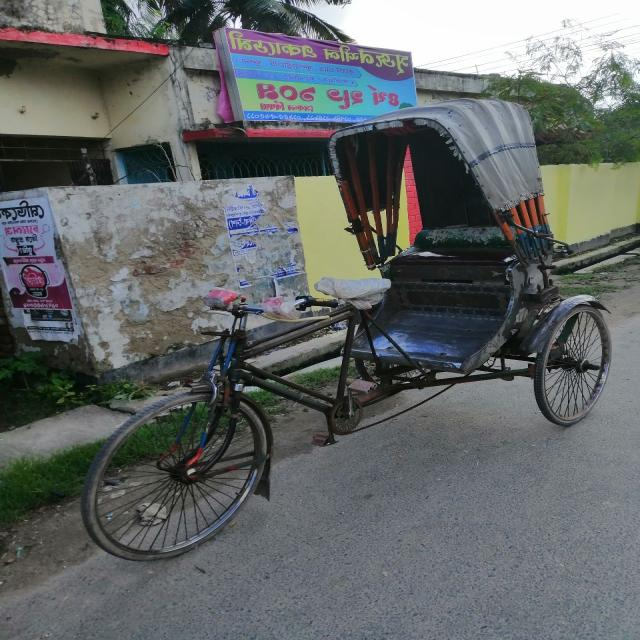Auto-Rickshaw: (68, 88, 626, 571)
